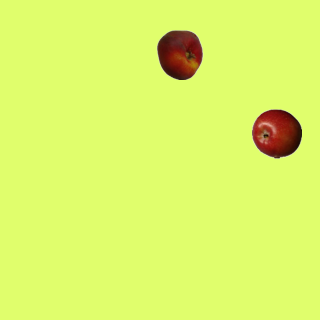Apple Braeburn: (251, 108, 301, 158)
Nectarine Flat: (154, 29, 204, 79)
